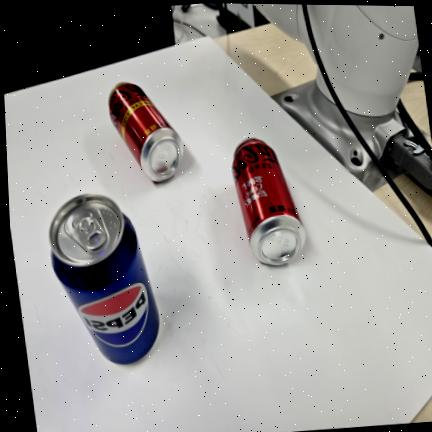can_coke_decaf: (107, 81, 185, 185)
can_coke_zero: (231, 138, 307, 266)
can_pepsi: (50, 191, 159, 363)
